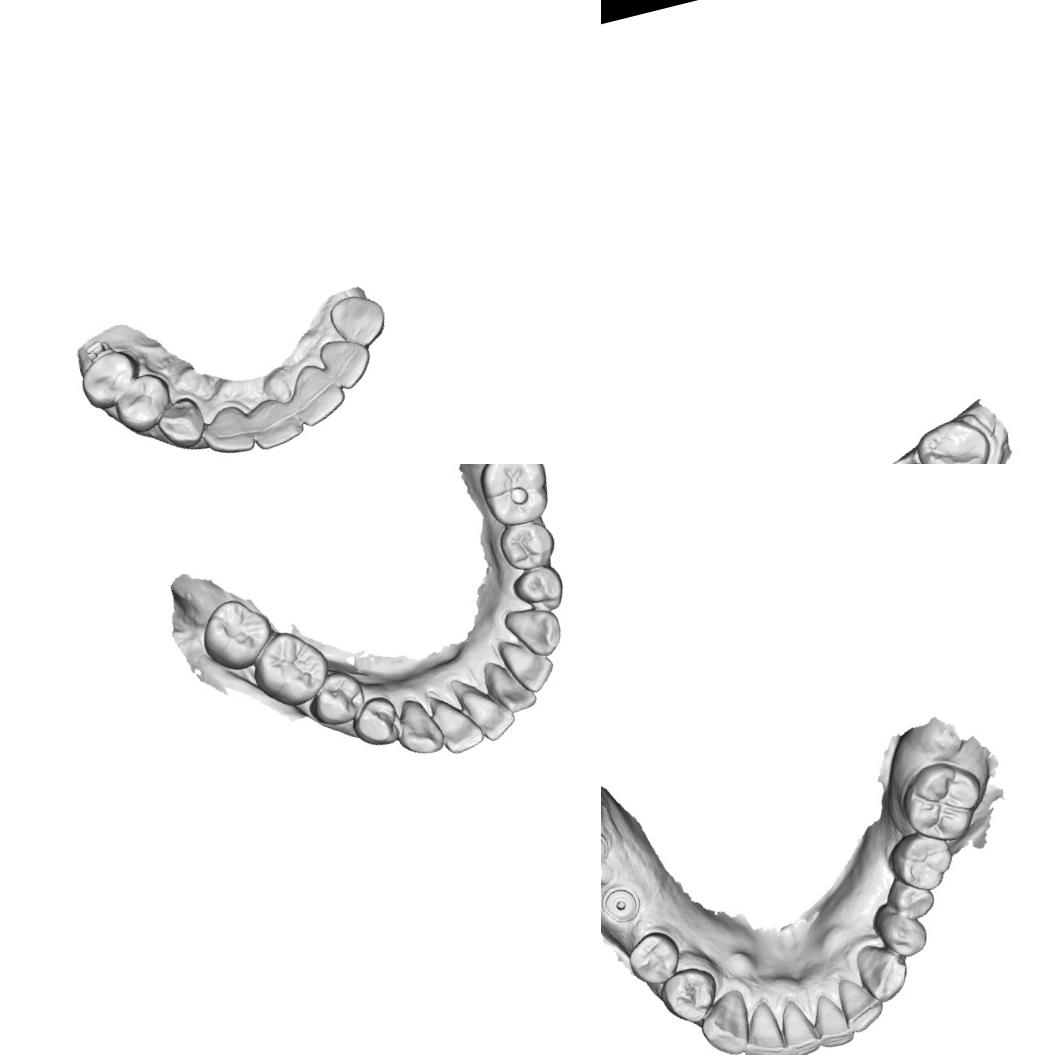canine: (322, 285, 395, 354), (499, 596, 568, 664), (853, 936, 916, 1006), (388, 691, 448, 764), (691, 990, 756, 1055), (149, 391, 210, 455)
implant: (601, 872, 653, 933)
implant_minus: (601, 820, 618, 877)
incisor: (280, 355, 350, 432), (456, 671, 522, 747), (495, 630, 559, 699), (478, 652, 540, 721), (314, 330, 378, 396), (430, 687, 488, 757), (245, 386, 306, 452), (729, 995, 794, 1055), (833, 969, 888, 1037), (196, 398, 256, 459), (771, 992, 824, 1055), (804, 989, 856, 1052)
molar: (894, 754, 991, 852), (241, 620, 336, 715), (194, 591, 276, 676), (881, 820, 962, 900), (472, 464, 560, 533), (911, 408, 1000, 464)
premolar: (652, 956, 729, 1032), (106, 367, 178, 442), (72, 344, 144, 414), (342, 684, 408, 758), (492, 512, 562, 579), (620, 924, 686, 993), (300, 666, 368, 732), (870, 895, 934, 962), (506, 558, 572, 620), (879, 870, 943, 927)
